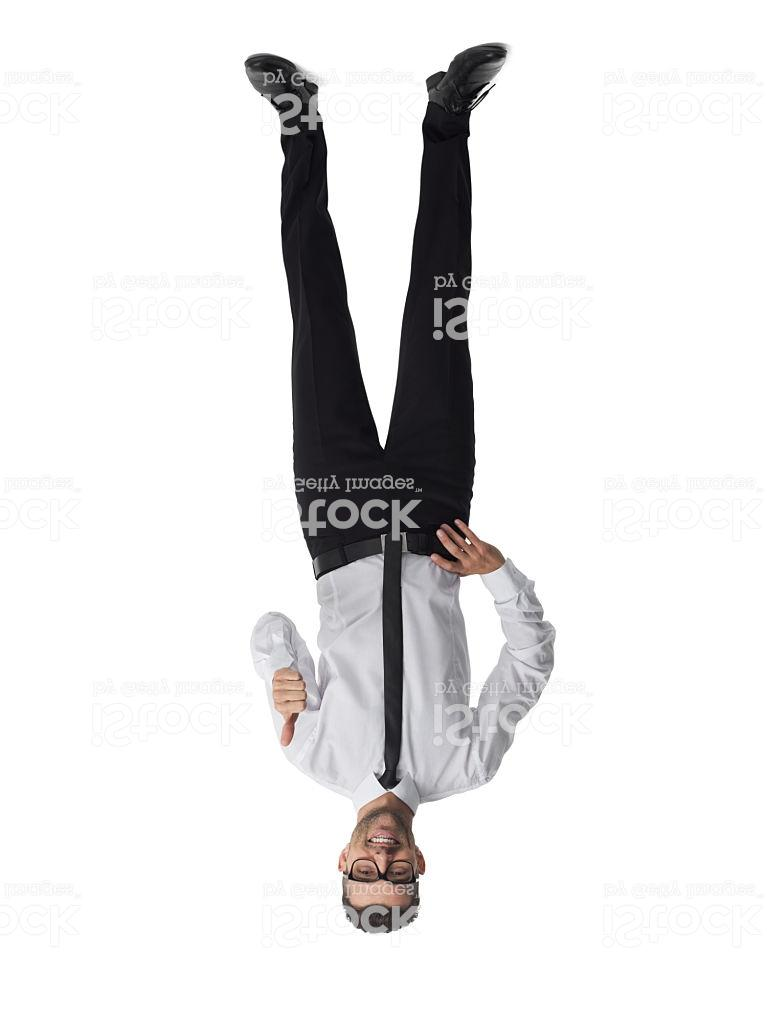thumbsdown: (270, 667, 307, 747)
